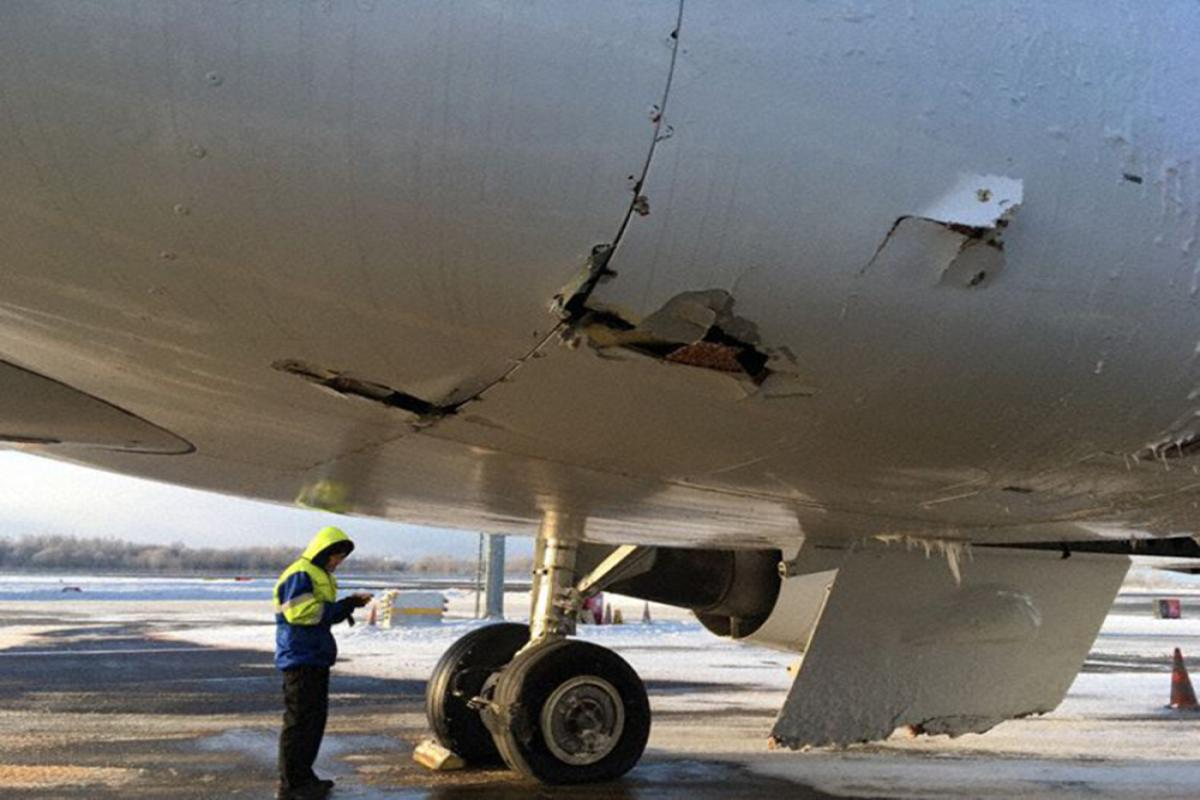Fuselage_damage: (538, 234, 806, 406), (847, 164, 1042, 293), (262, 354, 487, 447), (760, 699, 1057, 757)
